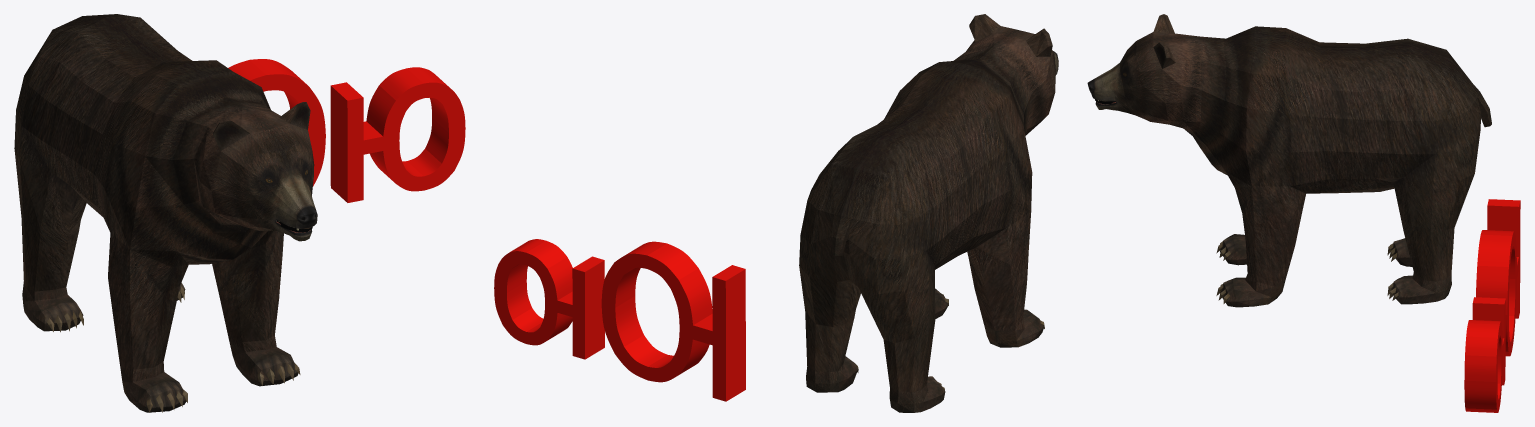
3 views of the same model, side by side, from view 1: azimuth 30°, elevation 25°; view 2: azimuth 150°, elevation 25°; view 3: azimuth 270°, elevation 25° (orthographic). The views are drawn at different scales.
Parts seen in each view (by area): view 1: Mesh.002, Mesh_0.035; view 2: Mesh.002, Mesh_0.035; view 3: Mesh.002, Mesh_0.035.
Part boxes in pixels (x1,y1,x2,y2): Mesh.002: (14,14,317,412); Mesh_0.035: (228,59,465,202); Mesh.002: (799,14,1058,412); Mesh_0.035: (494,239,745,401); Mesh.002: (1087,14,1491,307); Mesh_0.035: (1464,199,1520,412).
Bounding box in the file's own units: 41.57 × 26.52 × 41.51.
Materials: 3 (2 with a texture image).
